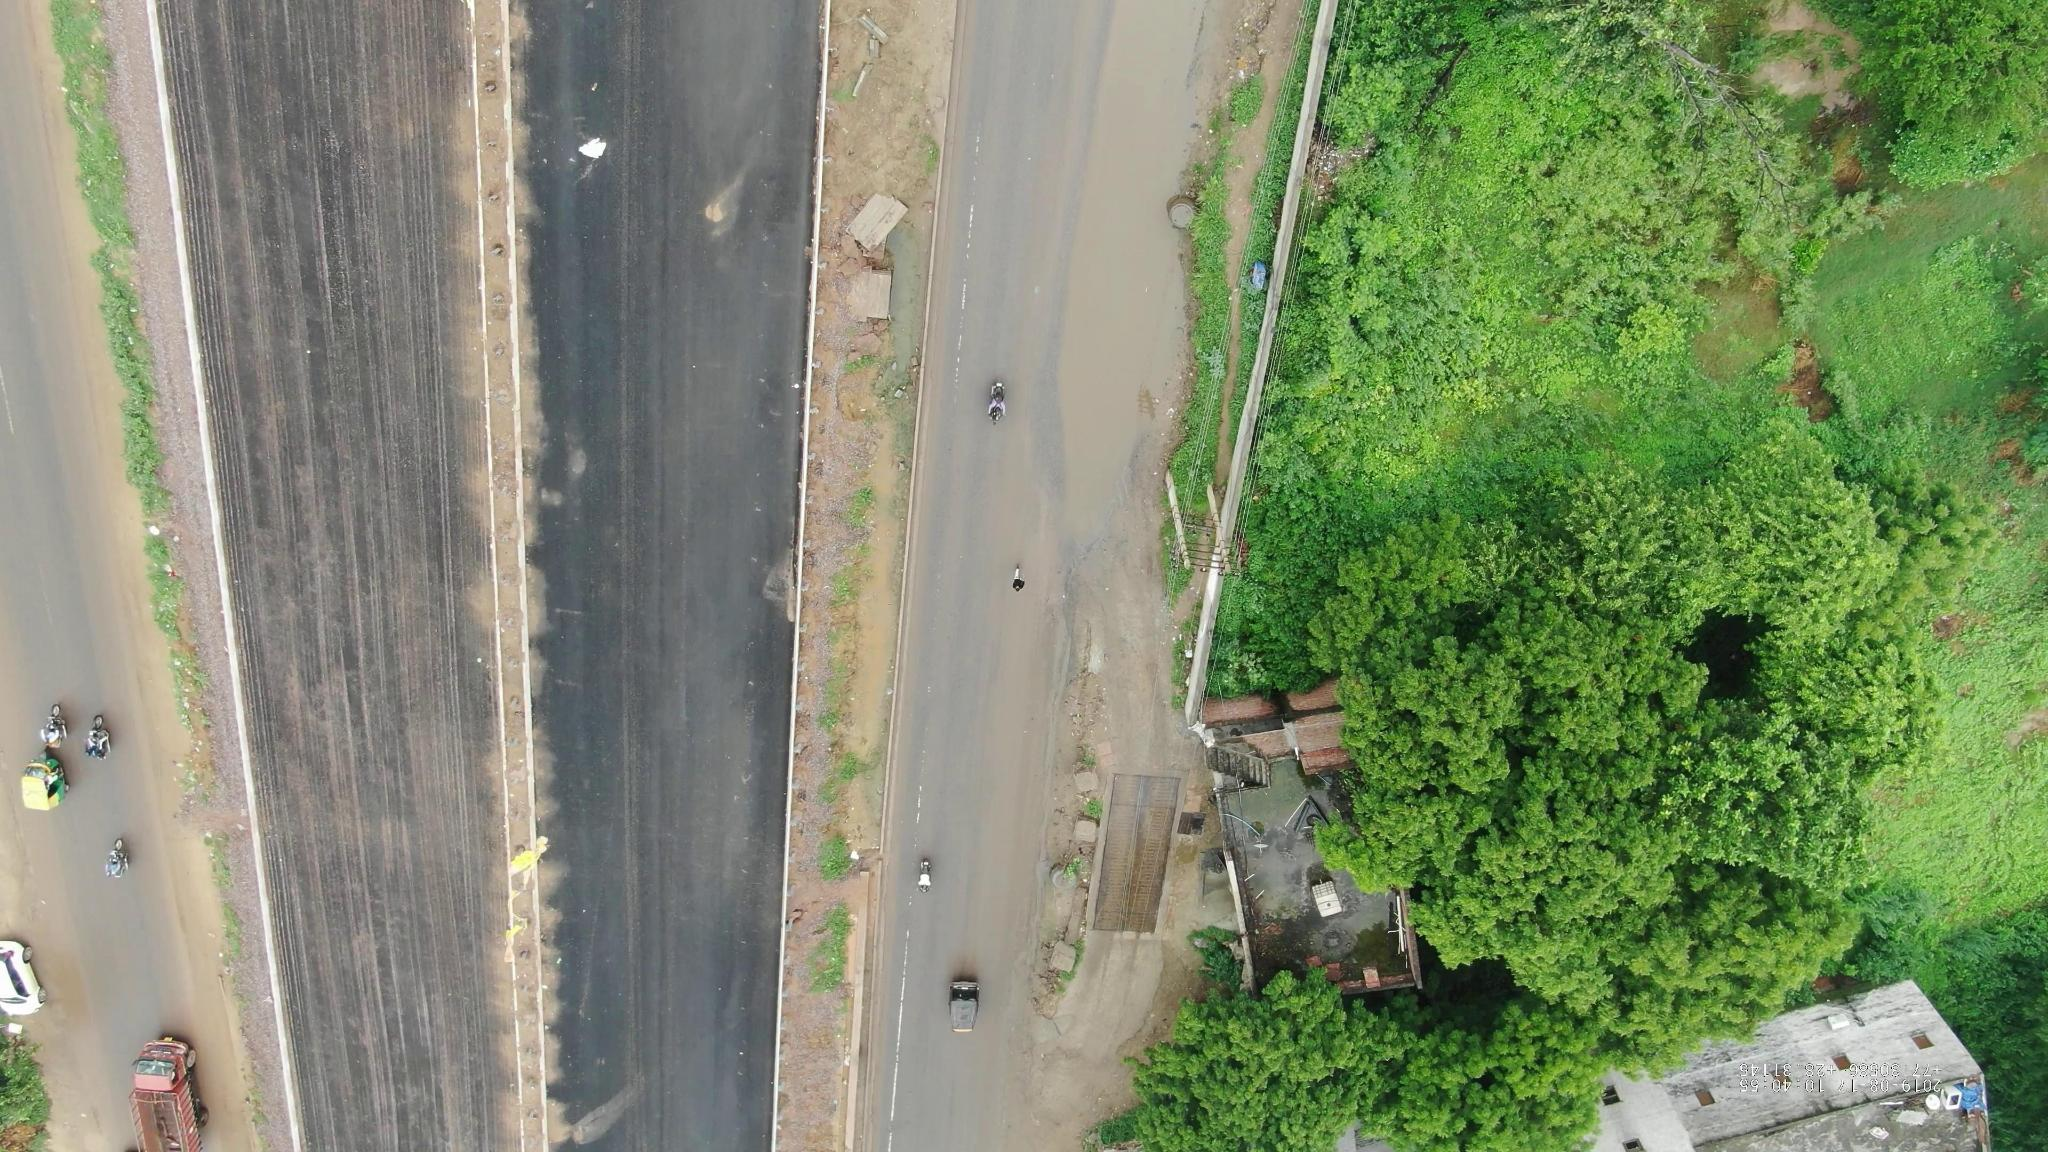Waterlogging: (1063, 94, 1177, 442)
